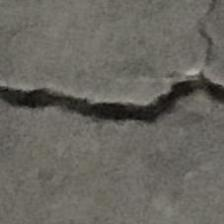Crack: (1, 69, 224, 136)
